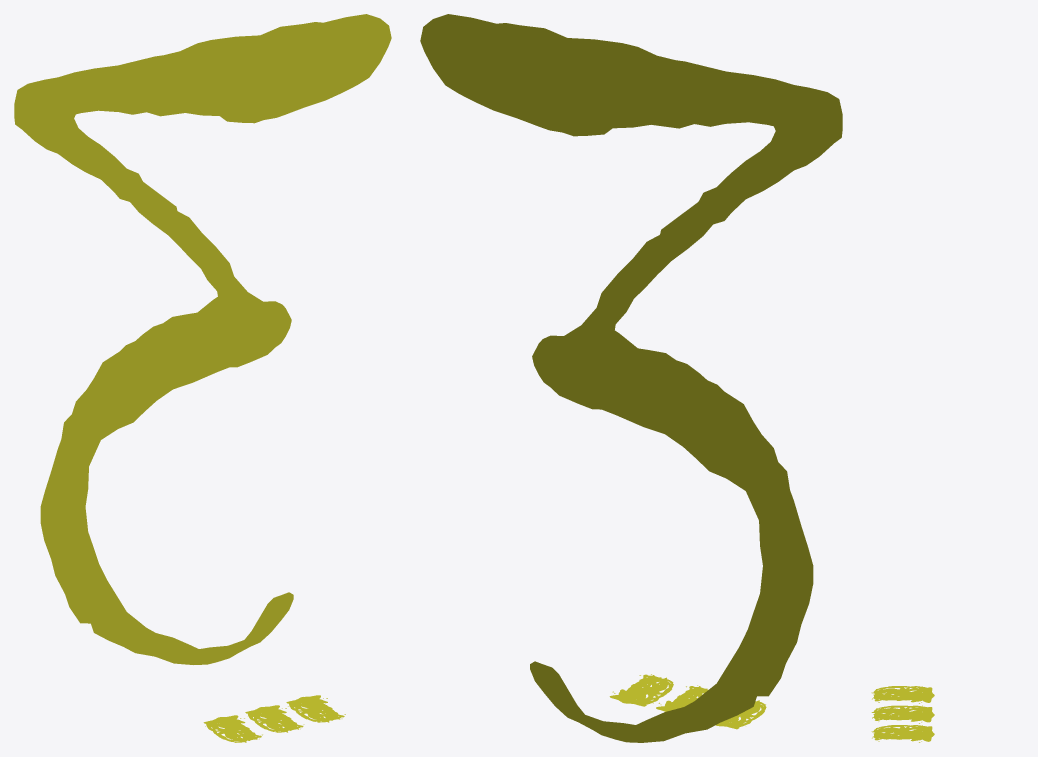
Rendered from three.obj.
3 views of the same model, side by side, from view 1: azimuth 30°, elevation 25°; view 2: azimuth 150°, elevation 25°; view 3: azimuth 270°, elevation 25° (orthographic). The views are drawn at different scales.
Parts seen in each view (by area): view 1: three.001; view 2: three.001; view 3: no part large enough to name.
Boxes of the visible parts, <box> form: three.001: <box>14,14,391,664</box>; three.001: <box>420,14,842,742</box>.
Size of the model in its own units: 0.3631 by 0.584 by 0.1315.
